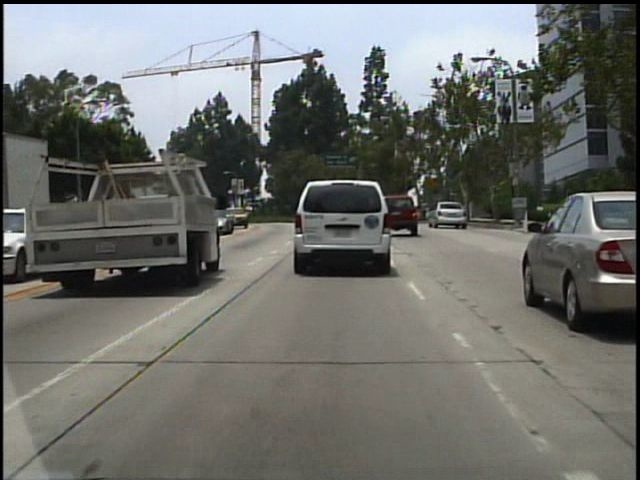person: (417, 196, 431, 223)
